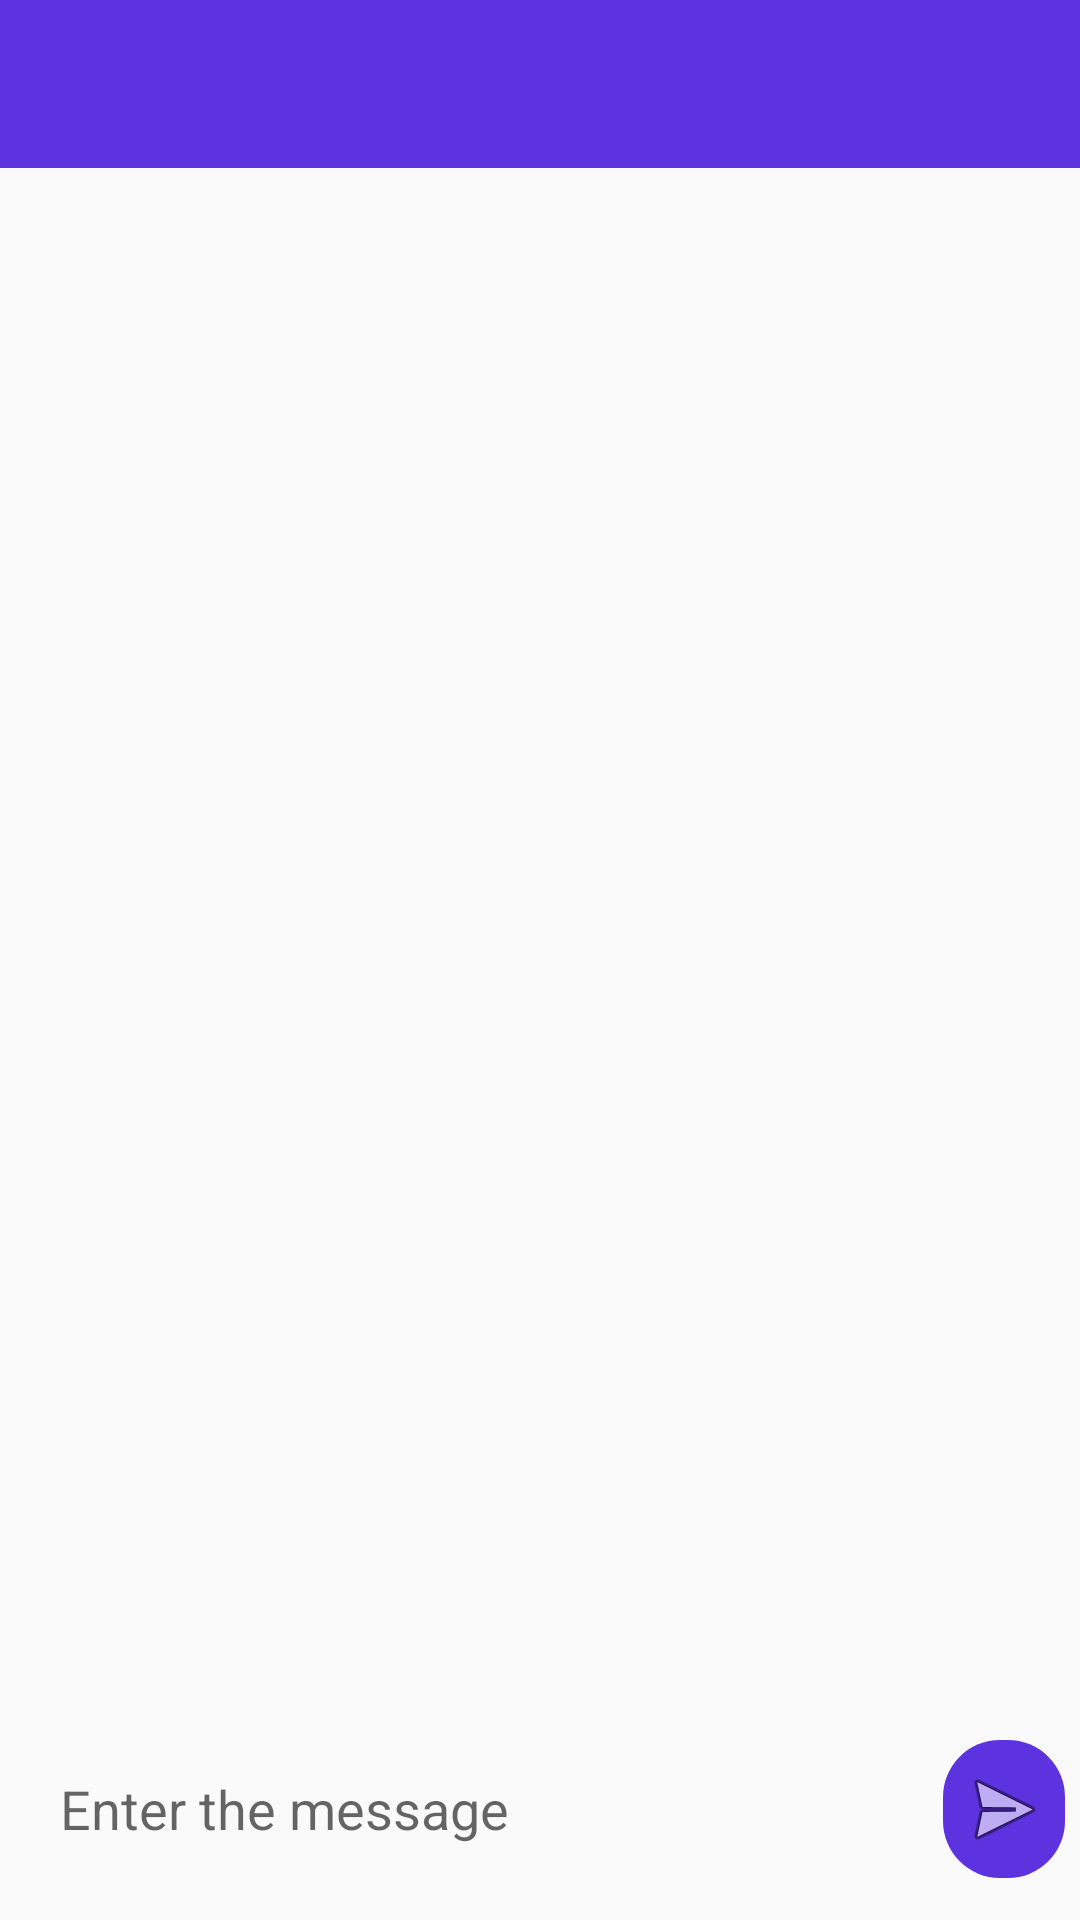

Icons on this 1080w x 1920h Android screen, each with the point to tap as (x,y):
send: (1004,1809)
